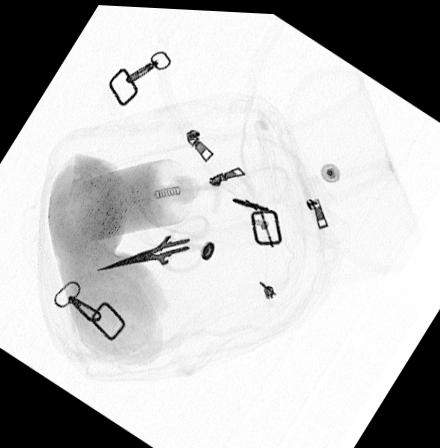Scissors: (95, 211, 211, 273)
